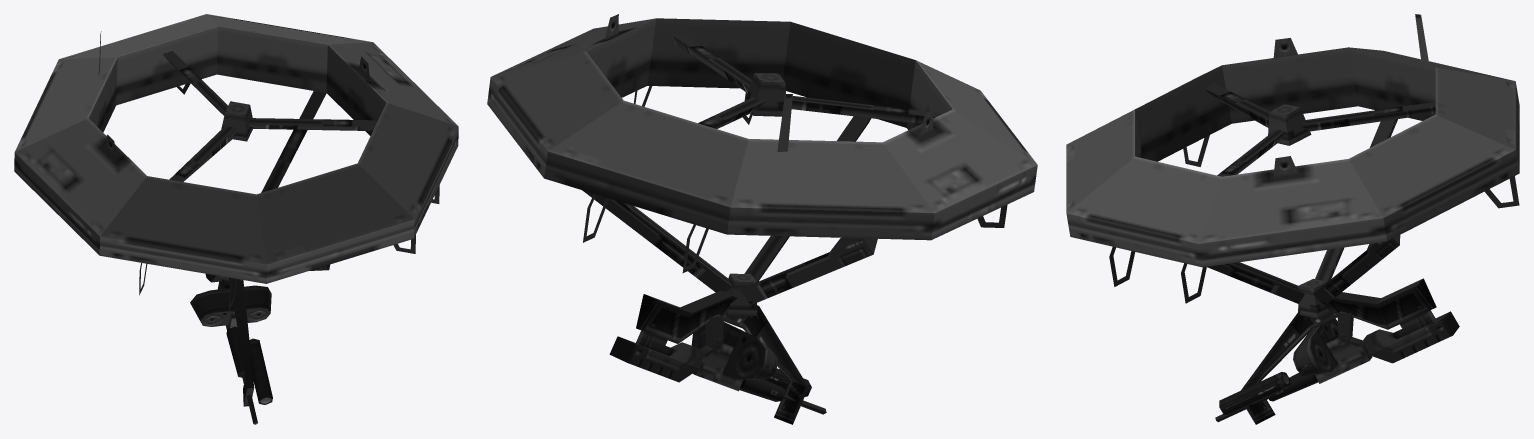
Rendered from mgs2.ico.obj.
3 renders of one model, left to right at view 1: azimuth 30°, elevation 25°; view 2: azimuth 150°, elevation 25°; view 3: azimuth 270°, elevation 25°, orthographic. The views are drawn at different scales.
Size of the model in its own units: 3.58 by 3.23 by 3.54.
1 material, 1 textured.
